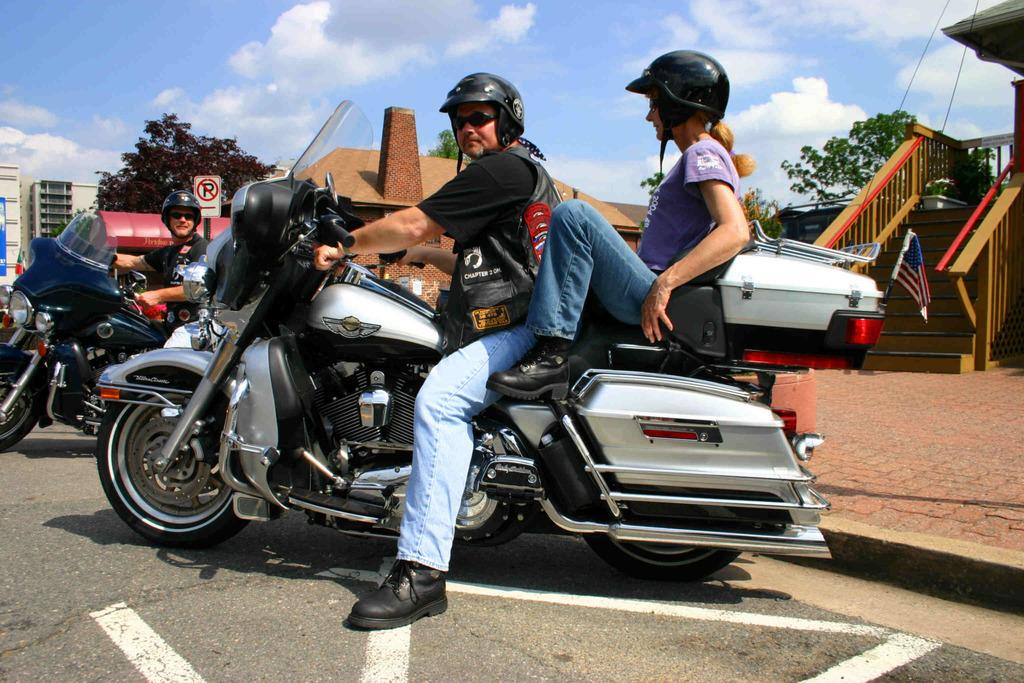helmet: (625, 49, 730, 139), (439, 72, 524, 156), (161, 190, 201, 236)
